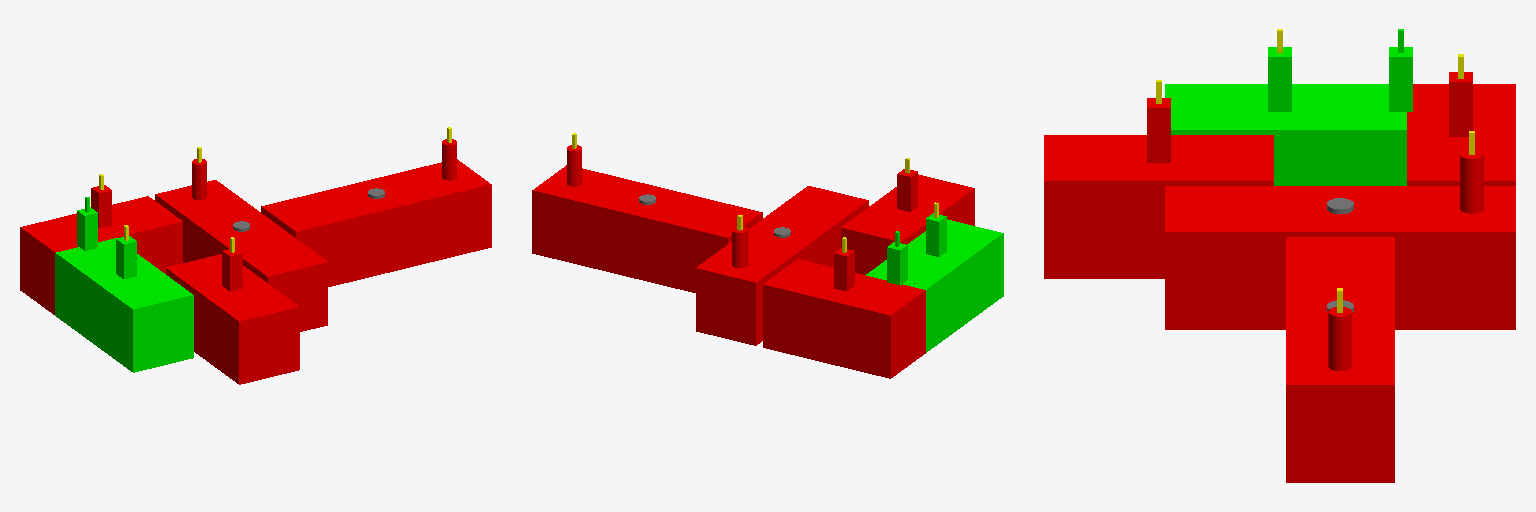
robot.urdf — grid_world1:
<?xml version="1.0"?>
<!-- created with Phobos 1.0.1 "Capricious Choutengan" -->
  <robot name="grid_world1">

    <link name="base_link">
    </link>

    <link name="goal">
      <visual name="visual_box_0_link_0.001">
        <origin xyz="0 0 0" rpy="0 0 0"/>
        <geometry>
          <box size="1.8971 0.8981 0.8981"/>
        </geometry>
        <material name="green_translucent"/>
      </visual>
    </link>

    <link name="link_0_joint_0">
      <visual name="visual_box_0_link_0">
        <origin xyz="0 0 0" rpy="0 0 0"/>
        <geometry>
          <box size="1.899 0.899 0.899"/>
        </geometry>
        <material name="green"/>
      </visual>
      <collision name="collision_box_0_link_0">
        <origin xyz="0 0 0" rpy="0 0 0"/>
        <geometry>
          <box size="1.899 0.899 0.899"/>
        </geometry>
      </collision>
    </link>

    <link name="link_1_joint_0">
      <visual name="visual_box_3_link_1">
        <origin xyz="0 0 0" rpy="0 0 0"/>
        <geometry>
          <box size="1.899 0.899 0.899"/>
        </geometry>
        <material name="red"/>
      </visual>
      <collision name="collision_box_3_link_1">
        <origin xyz="0 0 0" rpy="0 0 0"/>
        <geometry>
          <box size="1.899 0.899 0.899"/>
        </geometry>
      </collision>
    </link>

    <link name="link_2_joint_0">
      <visual name="visual_box_6_link_2">
        <origin xyz="0 0 0" rpy="0 0 0"/>
        <geometry>
          <box size="2.899 0.899 0.899"/>
        </geometry>
        <material name="red"/>
      </visual>
      <collision name="collision_box_6_link_2">
        <origin xyz="0 0 0" rpy="0 0 0"/>
        <geometry>
          <box size="2.899 0.899 0.899"/>
        </geometry>
      </collision>
    </link>

    <link name="link_3_joint_0">
      <visual name="visual_box_10_link_3">
        <origin xyz="0 0 0" rpy="0 0 0"/>
        <geometry>
          <box size="1.899 0.899 0.899"/>
        </geometry>
        <material name="red"/>
      </visual>
      <collision name="collision_box_10_link_3">
        <origin xyz="0 0 0" rpy="0 0 0"/>
        <geometry>
          <box size="1.899 0.899 0.899"/>
        </geometry>
      </collision>
    </link>

    <link name="link_4_joint_0">
      <visual name="visual_box_13_link_4">
        <origin xyz="0 0 0" rpy="0 0 0"/>
        <geometry>
          <box size="2.899 0.899 0.899"/>
        </geometry>
        <material name="red"/>
      </visual>
      <collision name="collision_box_13_link_4">
        <origin xyz="0 0 0" rpy="0 0 0"/>
        <geometry>
          <box size="2.899 0.899 0.899"/>
        </geometry>
      </collision>
    </link>

    <link name="link_fixed_11_handle_shaft">
      <visual name="visual_box_fixed_11_handle_shaft">
        <origin xyz="0 0 0" rpy="0 0 0"/>
        <geometry>
          <box size="0.199 0.199 0.499"/>
        </geometry>
        <material name="red"/>
      </visual>
      <collision name="collision_box_fixed_11_handle_shaft">
        <origin xyz="0 0 0" rpy="0 0 0"/>
        <geometry>
          <box size="0.199 0.199 0.499"/>
        </geometry>
      </collision>
    </link>

    <link name="link_fixed_12_handle_knob">
      <visual name="visual_box_fixed_12_handle_knob">
        <origin xyz="0 0 0" rpy="0 0 0"/>
        <geometry>
          <box size="0.049 0.049 0.199"/>
        </geometry>
        <material name="yellow"/>
      </visual>
      <collision name="collision_box_fixed_12_handle_knob">
        <origin xyz="0 0 0" rpy="0 0 0"/>
        <geometry>
          <box size="0.049 0.049 0.199"/>
        </geometry>
      </collision>
    </link>

    <link name="link_fixed_14_hinge">
      <visual name="visual_cylinder_fixed_14_hinge">
        <origin xyz="0 0 0" rpy="0 0 0"/>
        <geometry>
          <cylinder radius="0.112" length="0.989"/>
        </geometry>
        <material name="gray"/>
      </visual>
    </link>

    <link name="link_fixed_15_handle_shaft">
      <visual name="visual_cylinder_fixed_15_handle_shaft">
        <origin xyz="0 0 0" rpy="0 0 0"/>
        <geometry>
          <cylinder radius="0.0995" length="0.499"/>
        </geometry>
        <material name="red"/>
      </visual>
      <collision name="collision_cylinder_fixed_15_handle_shaft">
        <origin xyz="0 0 0" rpy="0 0 0"/>
        <geometry>
          <cylinder radius="0.0995" length="0.499"/>
        </geometry>
      </collision>
    </link>

    <link name="link_fixed_16_handle_knob">
      <visual name="visual_box_fixed_16_handle_knob">
        <origin xyz="0 0 0" rpy="0 0 0"/>
        <geometry>
          <box size="0.049 0.049 0.199"/>
        </geometry>
        <material name="yellow"/>
      </visual>
      <collision name="collision_box_fixed_16_handle_knob">
        <origin xyz="0 0 0" rpy="0 0 0"/>
        <geometry>
          <box size="0.049 0.049 0.199"/>
        </geometry>
      </collision>
    </link>

    <link name="link_fixed_1_handle_shaft">
      <visual name="visual_box_fixed_1_handle_shaft">
        <origin xyz="0 0 0" rpy="0 0 0"/>
        <geometry>
          <box size="0.199 0.199 0.499"/>
        </geometry>
        <material name="green"/>
      </visual>
      <collision name="collision_box_fixed_1_handle_shaft">
        <origin xyz="0 0 0" rpy="0 0 0"/>
        <geometry>
          <box size="0.199 0.199 0.499"/>
        </geometry>
      </collision>
    </link>

    <link name="link_fixed_1_handle_shaft.001">
      <visual name="visual_box_fixed_1_handle_shaft.001">
        <origin xyz="0 0 0" rpy="0 0 0"/>
        <geometry>
          <box size="0.1988 0.1988 0.4985"/>
        </geometry>
        <material name="green_translucent"/>
      </visual>
    </link>

    <link name="link_fixed_2_handle_knob">
      <visual name="visual_box_fixed_2_handle_knob">
        <origin xyz="0 0 0" rpy="0 0 0"/>
        <geometry>
          <box size="0.049 0.049 0.199"/>
        </geometry>
        <material name="yellow"/>
      </visual>
      <collision name="collision_box_fixed_2_handle_knob">
        <origin xyz="0 0 0" rpy="0 0 0"/>
        <geometry>
          <box size="0.049 0.049 0.199"/>
        </geometry>
      </collision>
    </link>

    <link name="link_fixed_2_handle_knob.001">
      <visual name="visual_box_fixed_2_handle_knob.001">
        <origin xyz="0 0 0" rpy="0 0 0"/>
        <geometry>
          <box size="0.04895 0.04895 0.1988"/>
        </geometry>
        <material name="green_translucent"/>
      </visual>
    </link>

    <link name="link_fixed_4_handle_shaft">
      <visual name="visual_box_fixed_4_handle_shaft">
        <origin xyz="0 0 0" rpy="0 0 0"/>
        <geometry>
          <box size="0.199 0.199 0.499"/>
        </geometry>
        <material name="red"/>
      </visual>
      <collision name="collision_box_fixed_4_handle_shaft">
        <origin xyz="0 0 0" rpy="0 0 0"/>
        <geometry>
          <box size="0.199 0.199 0.499"/>
        </geometry>
      </collision>
    </link>

    <link name="link_fixed_5_handle_knob">
      <visual name="visual_box_fixed_5_handle_knob">
        <origin xyz="0 0 0" rpy="0 0 0"/>
        <geometry>
          <box size="0.049 0.049 0.199"/>
        </geometry>
        <material name="yellow"/>
      </visual>
      <collision name="collision_box_fixed_5_handle_knob">
        <origin xyz="0 0 0" rpy="0 0 0"/>
        <geometry>
          <box size="0.049 0.049 0.199"/>
        </geometry>
      </collision>
    </link>

    <link name="link_fixed_7_hinge">
      <visual name="visual_cylinder_fixed_7_hinge">
        <origin xyz="0 0 0" rpy="0 0 0"/>
        <geometry>
          <cylinder radius="0.112" length="0.989"/>
        </geometry>
        <material name="gray"/>
      </visual>
    </link>

    <link name="link_fixed_8_handle_shaft">
      <visual name="visual_cylinder_fixed_8_handle_shaft">
        <origin xyz="0 0 0" rpy="0 0 0"/>
        <geometry>
          <cylinder radius="0.0995" length="0.499"/>
        </geometry>
        <material name="red"/>
      </visual>
      <collision name="collision_cylinder_fixed_8_handle_shaft">
        <origin xyz="0 0 0" rpy="0 0 0"/>
        <geometry>
          <cylinder radius="0.0995" length="0.499"/>
        </geometry>
      </collision>
    </link>

    <link name="link_fixed_9_handle_knob">
      <visual name="visual_box_fixed_9_handle_knob">
        <origin xyz="0 0 0" rpy="0 0 0"/>
        <geometry>
          <box size="0.049 0.049 0.199"/>
        </geometry>
        <material name="yellow"/>
      </visual>
      <collision name="collision_box_fixed_9_handle_knob">
        <origin xyz="0 0 0" rpy="0 0 0"/>
        <geometry>
          <box size="0.049 0.049 0.199"/>
        </geometry>
      </collision>
    </link>

    <joint name="goal" type="fixed">
      <origin xyz="0.5 2.0 0.45" rpy="0 0 1.5708"/>
      <parent link="base_link"/>
      <child link="goal"/>
      <limit effort="0" velocity="0"/>
    </joint>

    <joint name="link_0_joint_0" type="prismatic">
      <origin xyz="0.5 1.0 0.45" rpy="0 0 1.5708"/>
      <parent link="base_link"/>
      <child link="link_0_joint_0"/>
      <axis xyz="1.0 0 0"/>
      <limit lower="0" upper="1.0" effort="0" velocity="0"/>
    </joint>

    <joint name="link_1_joint_0" type="prismatic">
      <origin xyz="1.0 2.5 0.45" rpy="0 0 0"/>
      <parent link="base_link"/>
      <child link="link_1_joint_0"/>
      <axis xyz="1.0 0 0"/>
      <limit lower="0" upper="1.0" effort="0" velocity="0"/>
    </joint>

    <joint name="link_2_joint_0" type="revolute">
      <origin xyz="2.5 1.5 0.45" rpy="0 0 1.5708"/>
      <parent link="base_link"/>
      <child link="link_2_joint_0"/>
      <axis xyz="0 0 1.0"/>
      <limit lower="-1.5708" upper="0" effort="0" velocity="0"/>
    </joint>

    <joint name="link_3_joint_0" type="prismatic">
      <origin xyz="1.5 0 0.45" rpy="0 0 -1.5708"/>
      <parent link="base_link"/>
      <child link="link_3_joint_0"/>
      <axis xyz="1.0 0 0"/>
      <limit lower="0" upper="1.0" effort="0" velocity="0"/>
    </joint>

    <joint name="link_4_joint_0" type="revolute">
      <origin xyz="4.5 1.5 0.45" rpy="0 0 0"/>
      <parent link="base_link"/>
      <child link="link_4_joint_0"/>
      <axis xyz="0 0 1.0"/>
      <limit lower="0" upper="1.5708" effort="0" velocity="0"/>
    </joint>

    <joint name="link_fixed_11_handle_shaft" type="fixed">
      <origin xyz="0 0 0.7" rpy="0 0 0"/>
      <parent link="link_3_joint_0"/>
      <child link="link_fixed_11_handle_shaft"/>
    </joint>

    <joint name="link_fixed_12_handle_knob" type="fixed">
      <origin xyz="0 0 0.35" rpy="0 0 0"/>
      <parent link="link_fixed_11_handle_shaft"/>
      <child link="link_fixed_12_handle_knob"/>
    </joint>

    <joint name="link_fixed_14_hinge" type="fixed">
      <origin xyz="0 0 0" rpy="0 0 0"/>
      <parent link="link_4_joint_0"/>
      <child link="link_fixed_14_hinge"/>
    </joint>

    <joint name="link_fixed_15_handle_shaft" type="fixed">
      <origin xyz="1.0875 0 0.7" rpy="0 0 0"/>
      <parent link="link_4_joint_0"/>
      <child link="link_fixed_15_handle_shaft"/>
    </joint>

    <joint name="link_fixed_16_handle_knob" type="fixed">
      <origin xyz="0 0 0.35" rpy="0 0 0"/>
      <parent link="link_fixed_15_handle_shaft"/>
      <child link="link_fixed_16_handle_knob"/>
    </joint>

    <joint name="link_fixed_1_handle_shaft" type="fixed">
      <origin xyz="0 0 0.7" rpy="0 0 0"/>
      <parent link="link_0_joint_0"/>
      <child link="link_fixed_1_handle_shaft"/>
    </joint>

    <joint name="link_fixed_1_handle_shaft.001" type="fixed">
      <origin xyz="0 0 0.6993" rpy="0 0 0"/>
      <parent link="goal"/>
      <child link="link_fixed_1_handle_shaft.001"/>
    </joint>

    <joint name="link_fixed_2_handle_knob" type="fixed">
      <origin xyz="0 0 0.35" rpy="0 0 0"/>
      <parent link="link_fixed_1_handle_shaft"/>
      <child link="link_fixed_2_handle_knob"/>
    </joint>

    <joint name="link_fixed_2_handle_knob.001" type="fixed">
      <origin xyz="0 0 0.34965" rpy="0 0 0"/>
      <parent link="link_fixed_1_handle_shaft.001"/>
      <child link="link_fixed_2_handle_knob.001"/>
    </joint>

    <joint name="link_fixed_4_handle_shaft" type="fixed">
      <origin xyz="0 0 0.7" rpy="0 0 0"/>
      <parent link="link_1_joint_0"/>
      <child link="link_fixed_4_handle_shaft"/>
    </joint>

    <joint name="link_fixed_5_handle_knob" type="fixed">
      <origin xyz="0 0 0.35" rpy="0 0 0"/>
      <parent link="link_fixed_4_handle_shaft"/>
      <child link="link_fixed_5_handle_knob"/>
    </joint>

    <joint name="link_fixed_7_hinge" type="fixed">
      <origin xyz="0 0 0" rpy="0 0 0"/>
      <parent link="link_2_joint_0"/>
      <child link="link_fixed_7_hinge"/>
    </joint>

    <joint name="link_fixed_8_handle_shaft" type="fixed">
      <origin xyz="1.0875 0 0.7" rpy="0 0 0"/>
      <parent link="link_2_joint_0"/>
      <child link="link_fixed_8_handle_shaft"/>
    </joint>

    <joint name="link_fixed_9_handle_knob" type="fixed">
      <origin xyz="0 0 0.35" rpy="0 0 0"/>
      <parent link="link_fixed_8_handle_shaft"/>
      <child link="link_fixed_9_handle_knob"/>
    </joint>

    <material name="gray">
      <color rgba="0.5 0.5 0.5 1.0"/>
    </material>

    <material name="green">
      <color rgba="0 1.0 0 1.0"/>
    </material>

    <material name="green_translucent">
      <color rgba="0 1.0 0 0.25"/>
    </material>

    <material name="red">
      <color rgba="1.0 0 0 1.0"/>
    </material>

    <material name="yellow">
      <color rgba="1.0 1.0 0 1.0"/>
    </material>

  </robot>

--- Render facts (derived) ---
The picture shows the robot from 3 angles, left to right: view 1: azimuth 30°, elevation 25°; view 2: azimuth 150°, elevation 25°; view 3: azimuth 270°, elevation 25°; orthographic projection.
Robot: grid_world1 — 21 links, 20 joints (2 revolute, 3 prismatic, 15 fixed); root link base_link; default pose: every joint at zero.
Visible links, largest first — view 1: link_4_joint_0, link_0_joint_0, link_3_joint_0, link_2_joint_0, link_1_joint_0, link_fixed_11_handle_shaft, link_fixed_1_handle_shaft, link_fixed_1_handle_shaft.001, link_fixed_4_handle_shaft, link_fixed_15_handle_shaft, link_fixed_8_handle_shaft; view 2: link_4_joint_0, link_1_joint_0, link_2_joint_0, link_0_joint_0, link_3_joint_0, link_fixed_1_handle_shaft, link_fixed_11_handle_shaft, link_fixed_1_handle_shaft.001, link_fixed_4_handle_shaft, link_fixed_8_handle_shaft, link_fixed_15_handle_shaft; view 3: link_2_joint_0, link_4_joint_0, link_3_joint_0, link_0_joint_0, link_1_joint_0, link_fixed_11_handle_shaft, link_fixed_1_handle_shaft, link_fixed_1_handle_shaft.001, link_fixed_4_handle_shaft, link_fixed_8_handle_shaft, link_fixed_15_handle_shaft, goal.
Link boxes in pixels (x1,y1,x2,y2): link_4_joint_0: (261, 159, 491, 286); link_0_joint_0: (59, 242, 193, 372); link_3_joint_0: (166, 254, 299, 384); link_2_joint_0: (155, 180, 327, 331); link_1_joint_0: (20, 196, 182, 314); link_fixed_11_handle_shaft: (222, 248, 242, 291); link_fixed_1_handle_shaft: (116, 236, 136, 278); link_fixed_1_handle_shaft.001: (77, 207, 97, 250); link_fixed_4_handle_shaft: (91, 185, 111, 228); link_fixed_15_handle_shaft: (442, 139, 456, 180); link_fixed_8_handle_shaft: (192, 159, 206, 199); link_4_joint_0: (532, 165, 762, 292); link_1_joint_0: (763, 259, 925, 378); link_2_joint_0: (696, 186, 868, 345); link_0_joint_0: (869, 219, 1003, 349); link_3_joint_0: (841, 174, 974, 274); link_fixed_1_handle_shaft: (926, 213, 946, 256); link_fixed_11_handle_shaft: (897, 169, 917, 211); link_fixed_1_handle_shaft.001: (887, 242, 907, 285); link_fixed_4_handle_shaft: (834, 248, 854, 290); link_fixed_8_handle_shaft: (732, 227, 747, 267); link_fixed_15_handle_shaft: (567, 145, 581, 186); link_2_joint_0: (1165, 186, 1515, 329); link_4_joint_0: (1286, 237, 1394, 482); link_3_joint_0: (1044, 135, 1273, 278); link_0_joint_0: (1165, 84, 1394, 185); link_1_joint_0: (1407, 84, 1515, 185); link_fixed_11_handle_shaft: (1147, 98, 1170, 162); link_fixed_1_handle_shaft: (1268, 47, 1291, 111); link_fixed_1_handle_shaft.001: (1389, 47, 1412, 111); link_fixed_4_handle_shaft: (1449, 72, 1472, 136); link_fixed_8_handle_shaft: (1460, 149, 1483, 213); link_fixed_15_handle_shaft: (1328, 307, 1351, 370); goal: (1395, 112, 1406, 185).
Size in the robot's own frame: 5.9 by 3.9 by 1.64 metres.
Geometry: primitives only (box / cylinder / sphere), no mesh files.